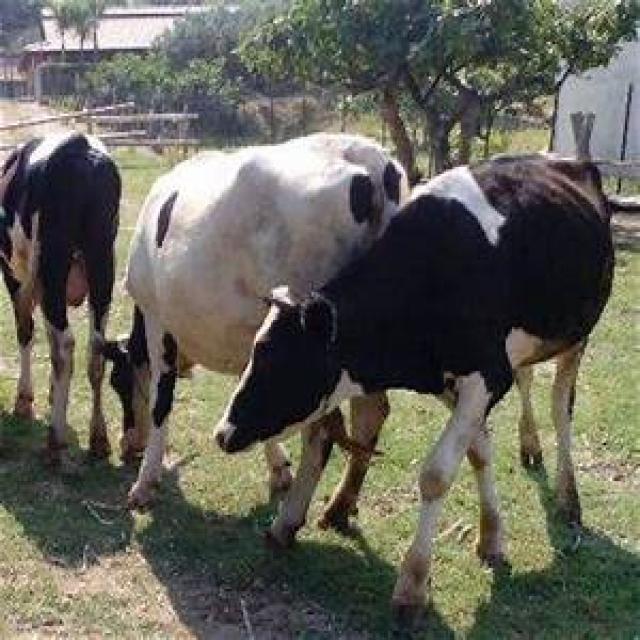cow: (211, 123, 634, 628), (96, 130, 407, 533), (0, 128, 122, 468)
